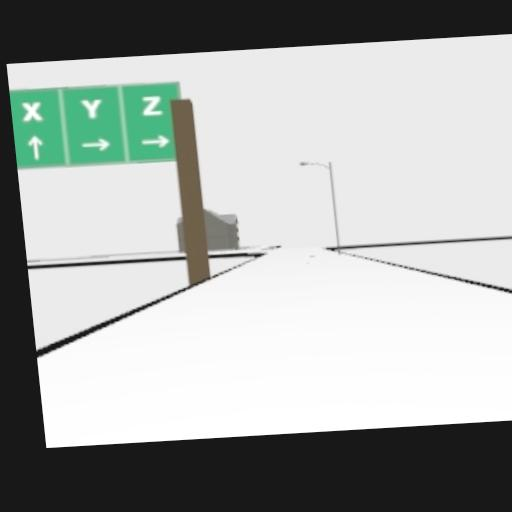Right: (139, 133, 170, 148), (80, 137, 111, 152)
Straight: (26, 135, 45, 159)
X: (21, 100, 43, 121)
Y: (80, 98, 103, 119)
Z: (140, 94, 163, 115)
